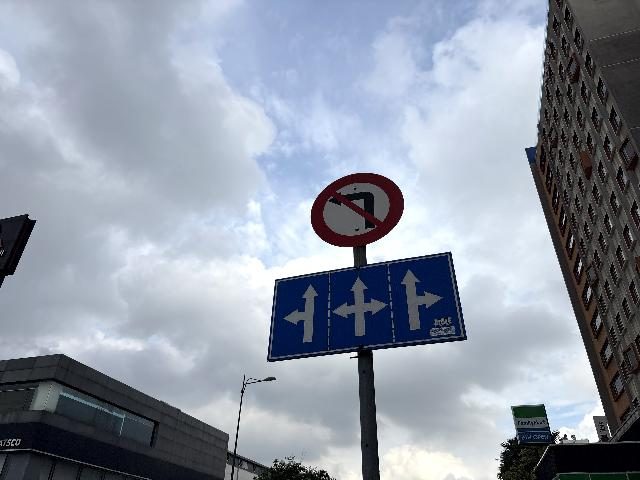cam-re-trai: (310, 172, 406, 247)
